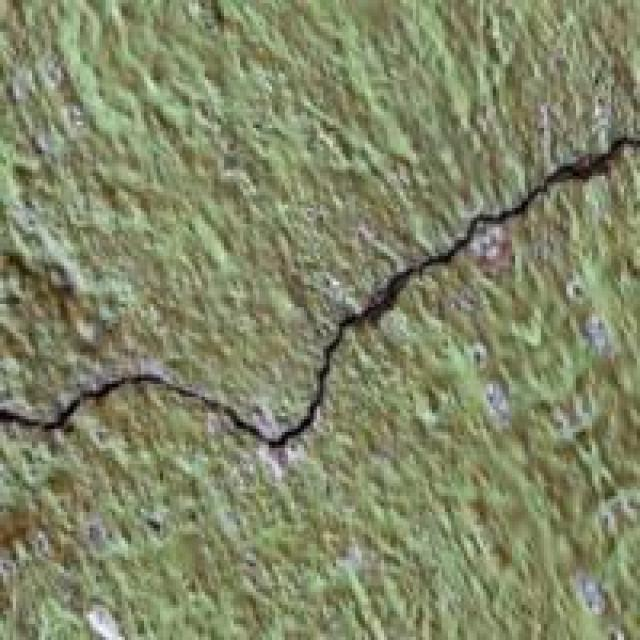crack: (0, 138, 637, 474)
